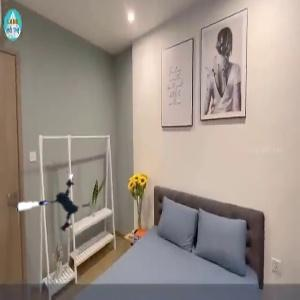drone: (18, 172, 98, 252)
